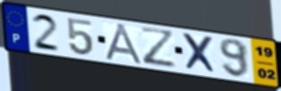2: (30, 13, 61, 53)
5: (65, 16, 95, 57)
9: (218, 38, 251, 81)
A: (103, 22, 147, 66)
X: (179, 32, 220, 76)
Z: (138, 25, 179, 69)
